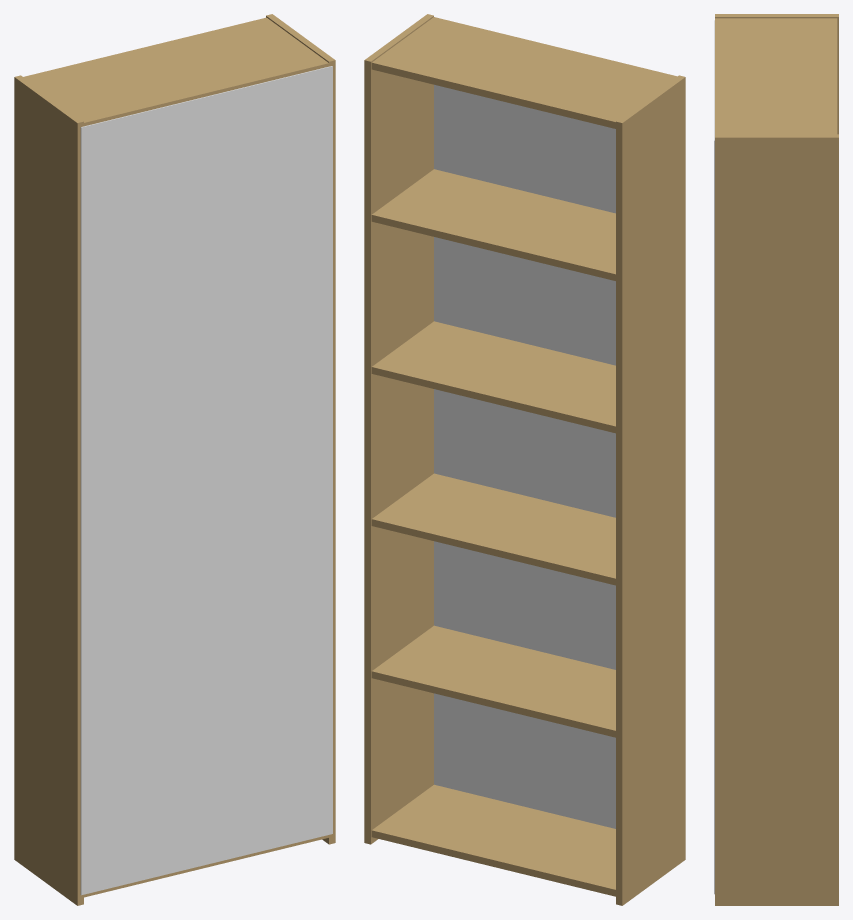
3 views of the same model, side by side, from view 1: azimuth 30°, elevation 25°; view 2: azimuth 150°, elevation 25°; view 3: azimuth 270°, elevation 25° (orthographic).
Parts seen in each view (by area): view 1: Mesh5 back1 Model, Mesh9 laterale2 Model, Mesh6 ripiano4 Model, Mesh2 laterale1 Model, Mesh8 ripiano6 Model; view 2: Mesh5 back1 Model, Mesh9 laterale2 Model, Mesh2 laterale1 Model, Mesh6 ripiano4 Model, Mesh4 ripiano3 Model, Mesh7 ripiano5 Model, Mesh1 ripiano1 Model, Mesh8 ripiano6 Model, Mesh3 ripiano2 Model; view 3: Mesh2 laterale1 Model, Mesh6 ripiano4 Model, Mesh5 back1 Model, Mesh9 laterale2 Model.
Part boxes in pixels (x1,y1,x2,y2): Mesh5 back1 Model: [80, 66, 332, 895]; Mesh9 laterale2 Model: [14, 75, 83, 905]; Mesh6 ripiano4 Model: [23, 17, 328, 126]; Mesh2 laterale1 Model: [266, 14, 335, 844]; Mesh8 ripiano6 Model: [84, 835, 328, 897]; Mesh5 back1 Model: [434, 84, 615, 828]; Mesh9 laterale2 Model: [616, 75, 685, 905]; Mesh2 laterale1 Model: [364, 14, 433, 844]; Mesh6 ripiano4 Model: [371, 17, 677, 128]; Mesh4 ripiano3 Model: [371, 473, 615, 585]; Mesh7 ripiano5 Model: [371, 625, 615, 737]; Mesh1 ripiano1 Model: [371, 169, 615, 280]; Mesh8 ripiano6 Model: [371, 784, 615, 896]; Mesh3 ripiano2 Model: [371, 321, 615, 433]; Mesh2 laterale1 Model: [715, 134, 838, 905]; Mesh6 ripiano4 Model: [715, 18, 837, 134]; Mesh5 back1 Model: [714, 20, 714, 894]; Mesh9 laterale2 Model: [715, 14, 838, 134].
Bounding box in the file's own units: 0.323 × 0.9363 × 0.138.
